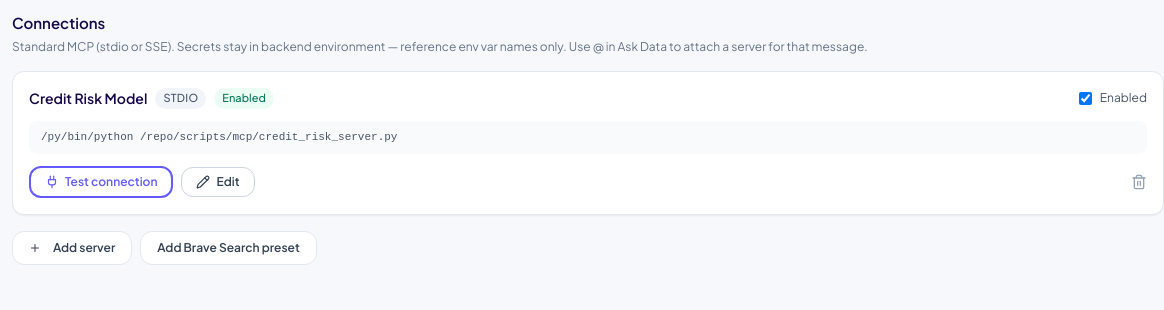
Test: AskDataMcpSettingsPanel › tests a saved server and reports the result on its card
Expected: the element with test id "mcp-server-card" is shown, [12,71,1163,215]
Click the button "Test connection" at [101, 182], box [29,166,174,198]
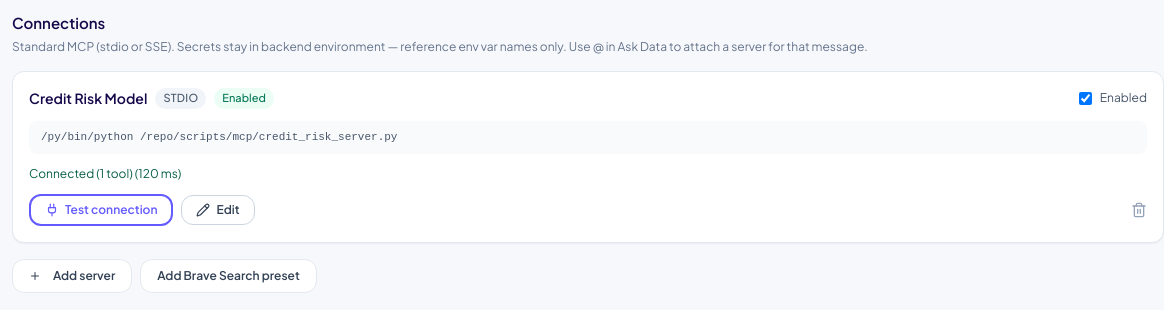
Result: the text with test id "mcp-test-result" reads "Connected (1 tool) (120 ms)" at [29,166,181,181]
